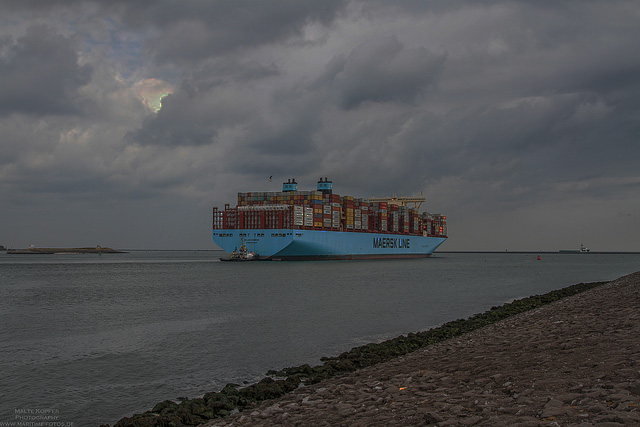container_ship: (210, 171, 447, 260)
tug_boat: (219, 235, 264, 265)
